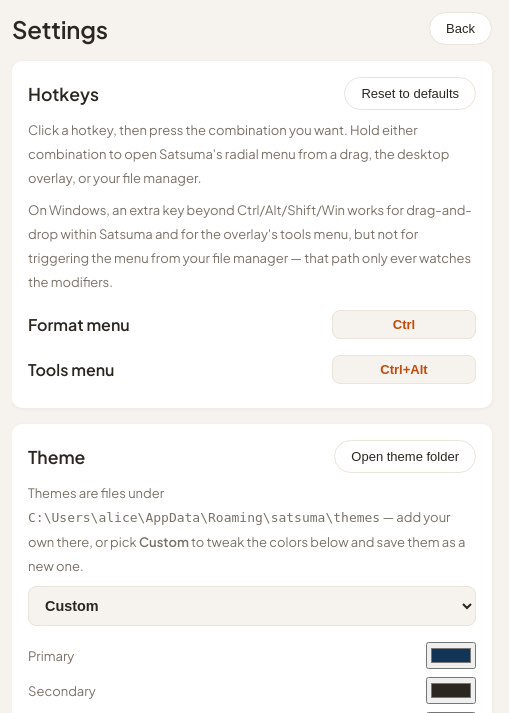
SettingsScreen › resets hotkeys to their defaults without touching the theme
Expected: the button with test id "format-hotkey-button" reads "Ctrl", [332,310,476,339]
Click the button with test id "reset-hotkeys". click: (410, 94)
box: [344,77,476,110]
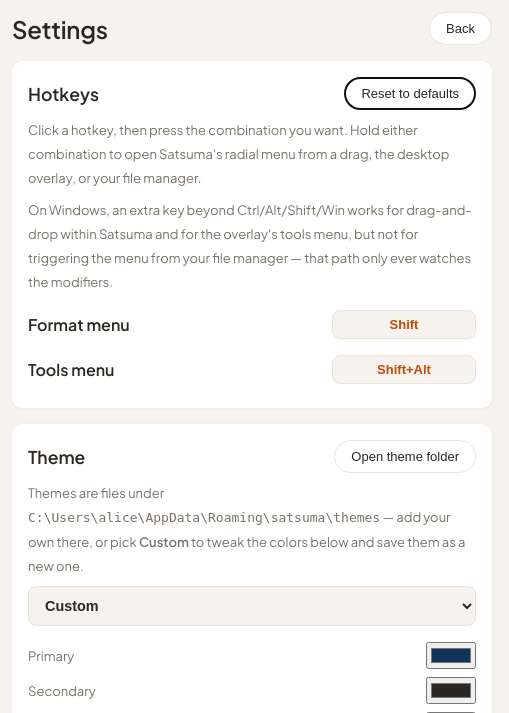
Now the button with test id "format-hotkey-button" reads "Shift", box [332,310,476,339]
Now the button with test id "tools-hotkey-button" reads "Shift+Alt", box [332,355,476,384]
